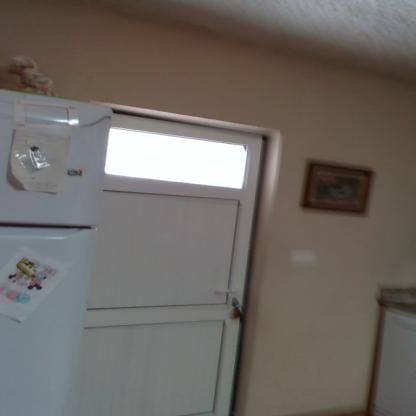closed: (80, 99, 294, 415)
